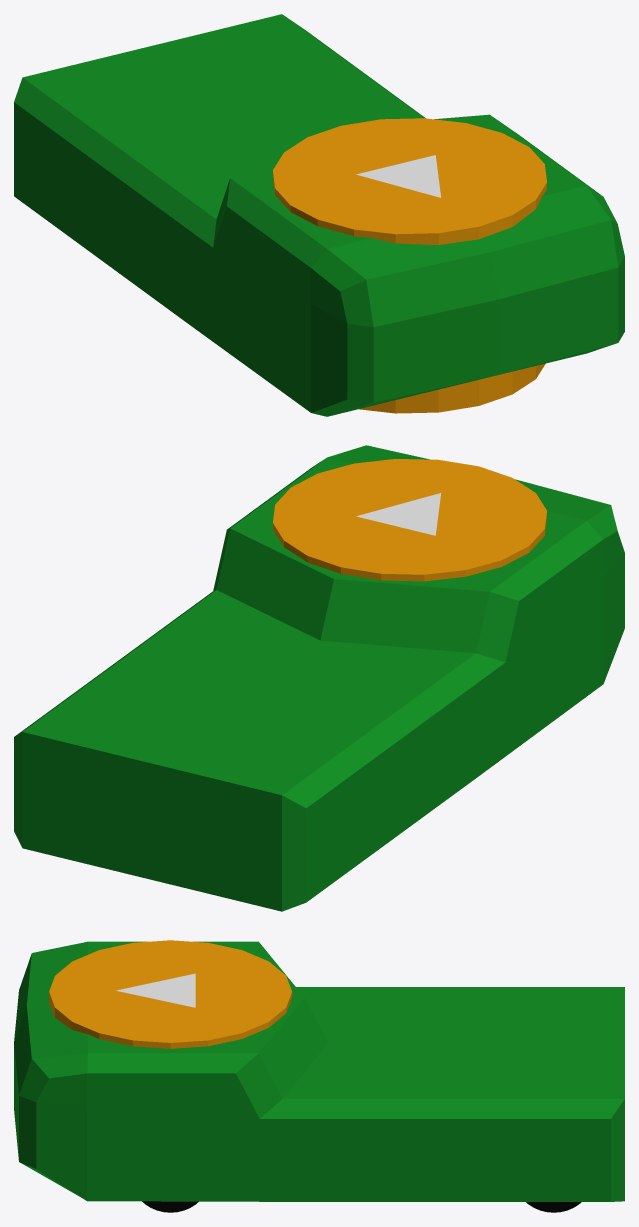
The model's file is Robot.fbx.
The picture shows the model from 3 angles, top to bottom: view 1: azimuth 30°, elevation 25°; view 2: azimuth 150°, elevation 25°; view 3: azimuth 270°, elevation 25°; orthographic projection. The views are drawn at different scales.
Visible parts, largest first — view 1: Robot, RobotSteering; view 2: Robot, RobotSteering; view 3: Robot, RobotSteering.
Boxes of the visible parts, bbox=[...] form: Robot: bbox=[14, 14, 624, 416]; RobotSteering: bbox=[273, 118, 546, 413]; Robot: bbox=[14, 445, 624, 911]; RobotSteering: bbox=[273, 459, 546, 581]; Robot: bbox=[14, 941, 624, 1212]; RobotSteering: bbox=[49, 940, 292, 1212].
Bounding box in the file's own units: 1.13 × 0.764 × 2.31.
